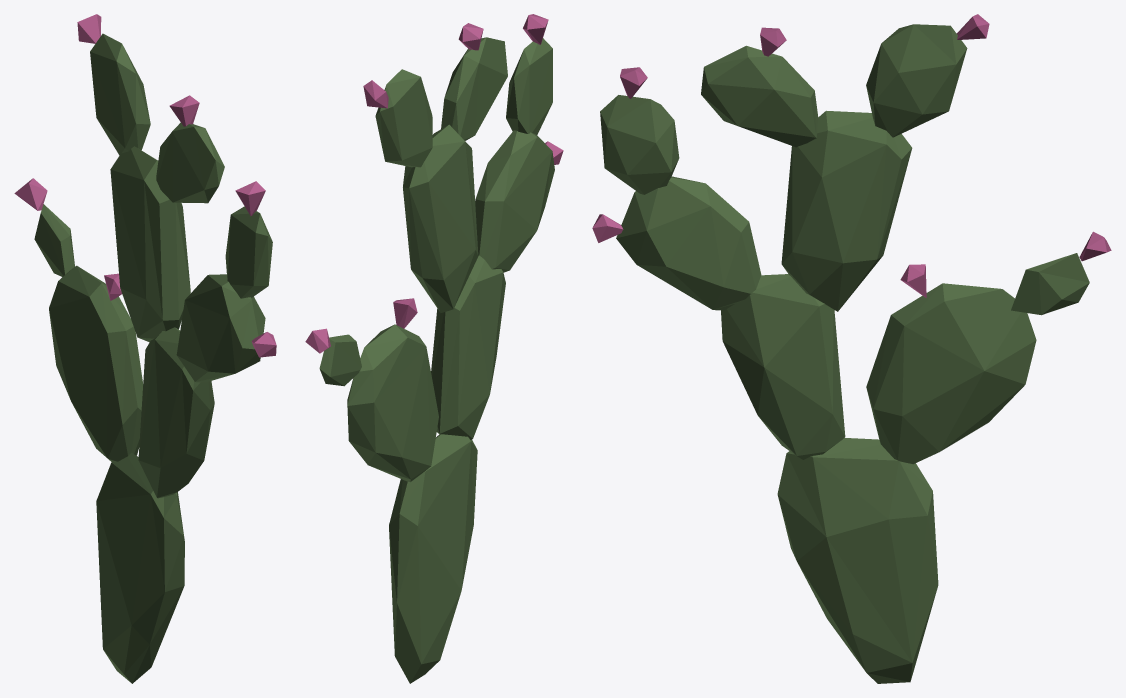
The model's file is CactusFlowers_4.lod2.glb.
3 renders of one model, left to right at view 1: azimuth 30°, elevation 25°; view 2: azimuth 150°, elevation 25°; view 3: azimuth 270°, elevation 25°, orthographic. The views are drawn at different scales.
Visible parts, largest first — view 1: CactusFlowers_4; view 2: CactusFlowers_4; view 3: CactusFlowers_4.
Part boxes in pixels (box(x1,y1,x2,y2)): CactusFlowers_4: box(14, 14, 276, 683); CactusFlowers_4: box(305, 14, 563, 683); CactusFlowers_4: box(592, 14, 1111, 683).
Size of the model in its own units: 0.1093 by 1.39 by 0.971.
